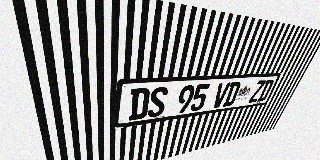5: (190, 84, 210, 112)
9: (175, 85, 196, 114)
D: (129, 88, 150, 121), (222, 82, 242, 107), (257, 80, 275, 102)
S: (147, 86, 169, 118)
V: (211, 82, 231, 109)
Z: (248, 80, 266, 103)
